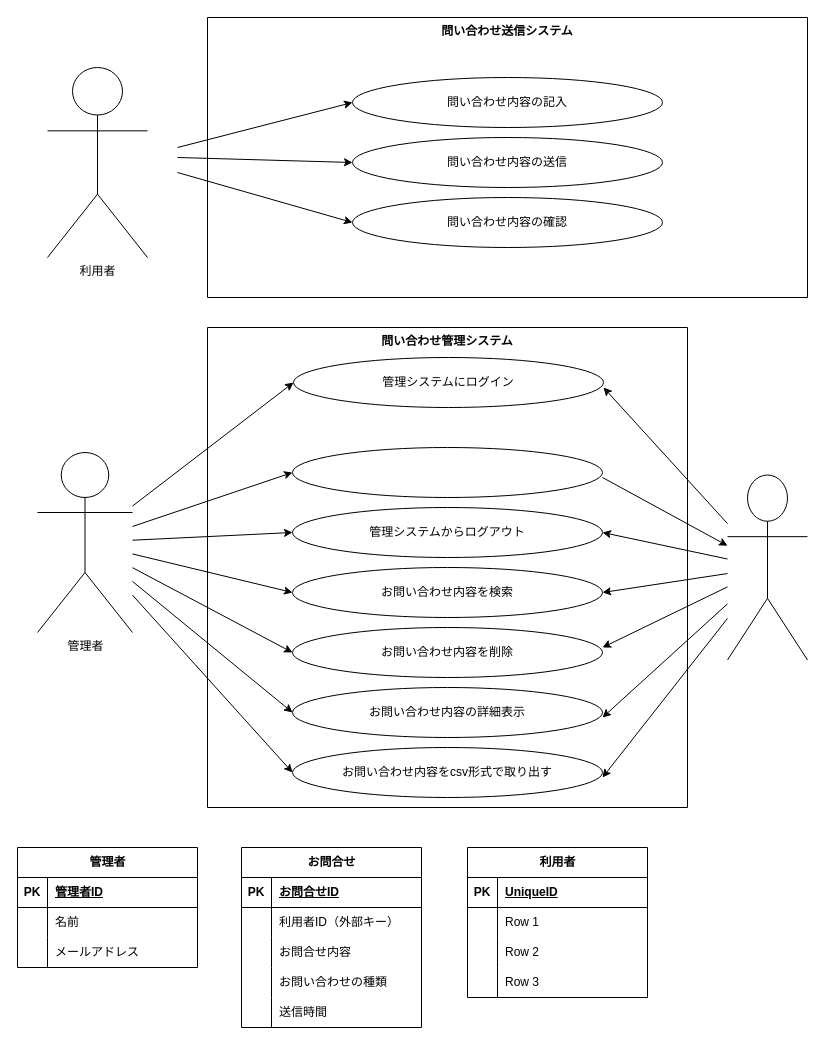
The diagram is 825 pixels wide and 1045 high, and some of its shapes have lost their labels. The centre of each missing label's shape, as x and y in pixels:
"新規ユーザーの作成・登録" goes at (447,472).
"新規管理者" goes at (767,567).
